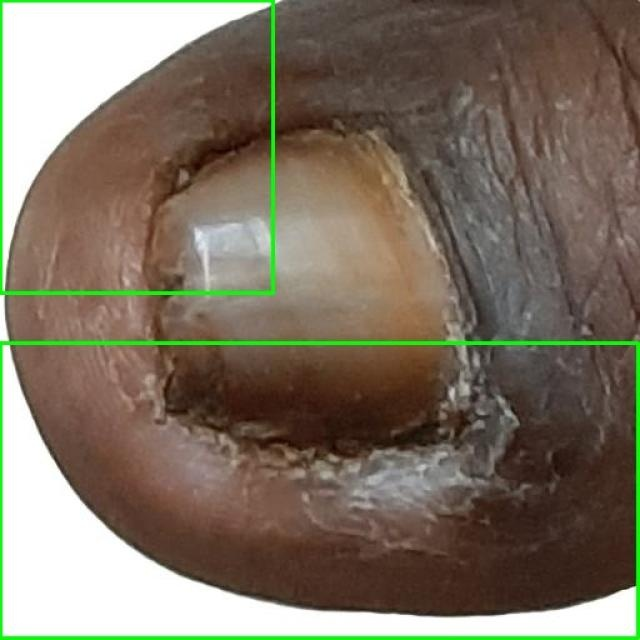Seborrheic Dermatitis: (0, 344, 639, 639), (0, 0, 272, 292)
